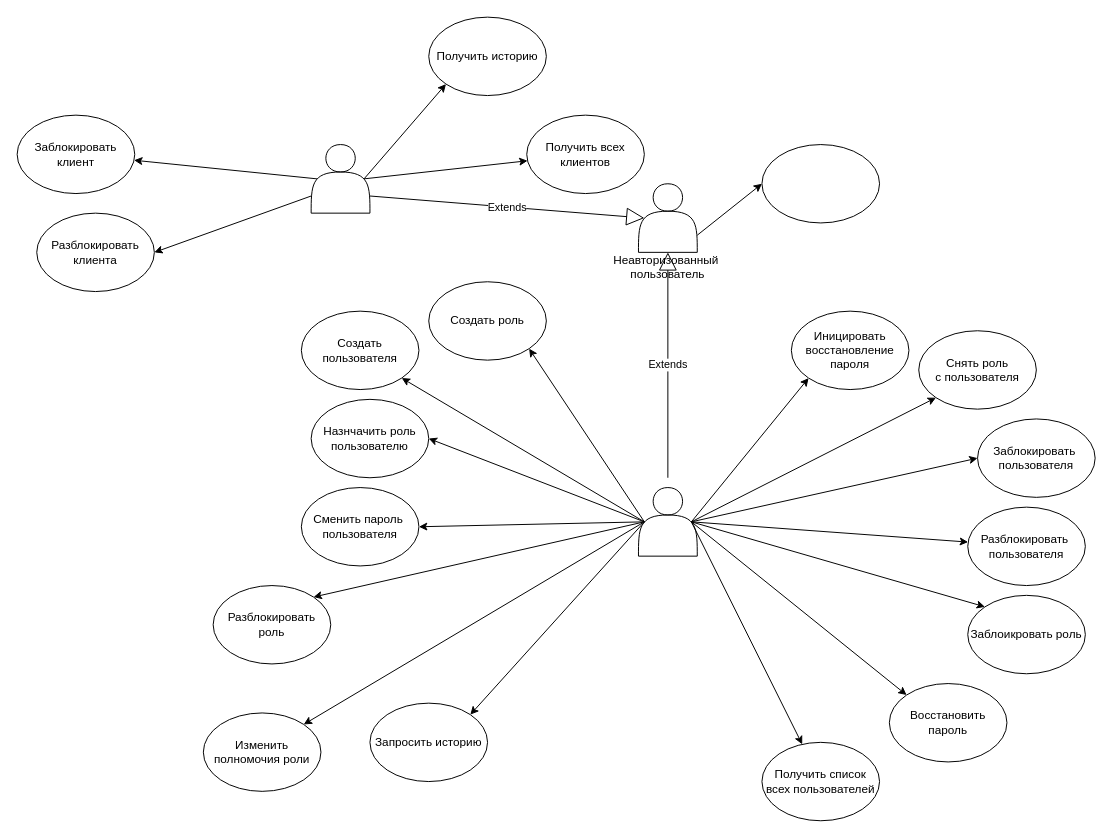
Image size: 1112x838. Some labels were removed from this diagram. Each missing label, with the box of its shape:
Авторизованный пользователь: (637, 487, 697, 556)
Администратор: (310, 144, 370, 213)
Добавить клиента: (761, 144, 880, 223)
